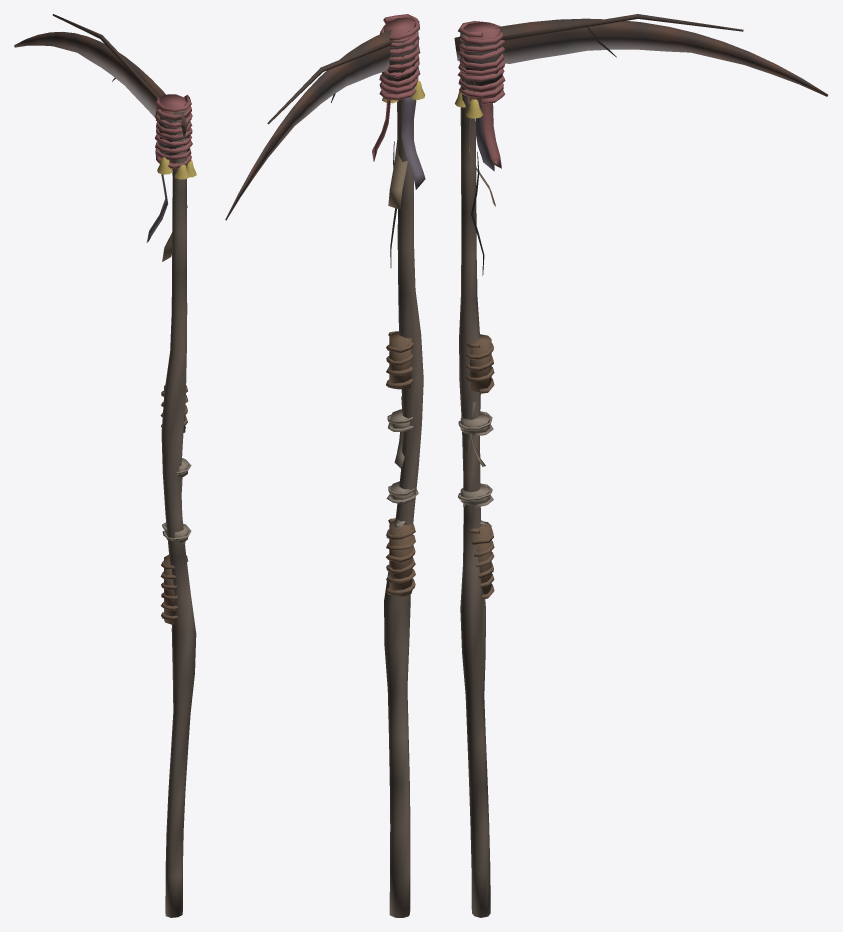
Rendered from wpn_gloamer_scythe_glaive.glb.
The picture shows the model from 3 angles, left to right: view 1: azimuth 30°, elevation 25°; view 2: azimuth 150°, elevation 25°; view 3: azimuth 270°, elevation 25°; orthographic projection. The views are drawn at different scales.
Parts seen in each view (by area): view 1: wpn_gloamer_scythe_glaive, wpn_gloamer_scythe_glaive_worn; view 2: wpn_gloamer_scythe_glaive, wpn_gloamer_scythe_glaive_worn; view 3: wpn_gloamer_scythe_glaive, wpn_gloamer_scythe_glaive_worn.
Part boxes in pixels (bbox=[...]): wpn_gloamer_scythe_glaive: bbox=[14, 14, 196, 917]; wpn_gloamer_scythe_glaive_worn: bbox=[53, 21, 191, 556]; wpn_gloamer_scythe_glaive: bbox=[225, 14, 425, 917]; wpn_gloamer_scythe_glaive_worn: bbox=[269, 67, 418, 530]; wpn_gloamer_scythe_glaive: bbox=[454, 14, 828, 917]; wpn_gloamer_scythe_glaive_worn: bbox=[458, 14, 739, 525].
Size of what is drawn, in the model's own units: 0.105 by 1.88 by 0.7087.
